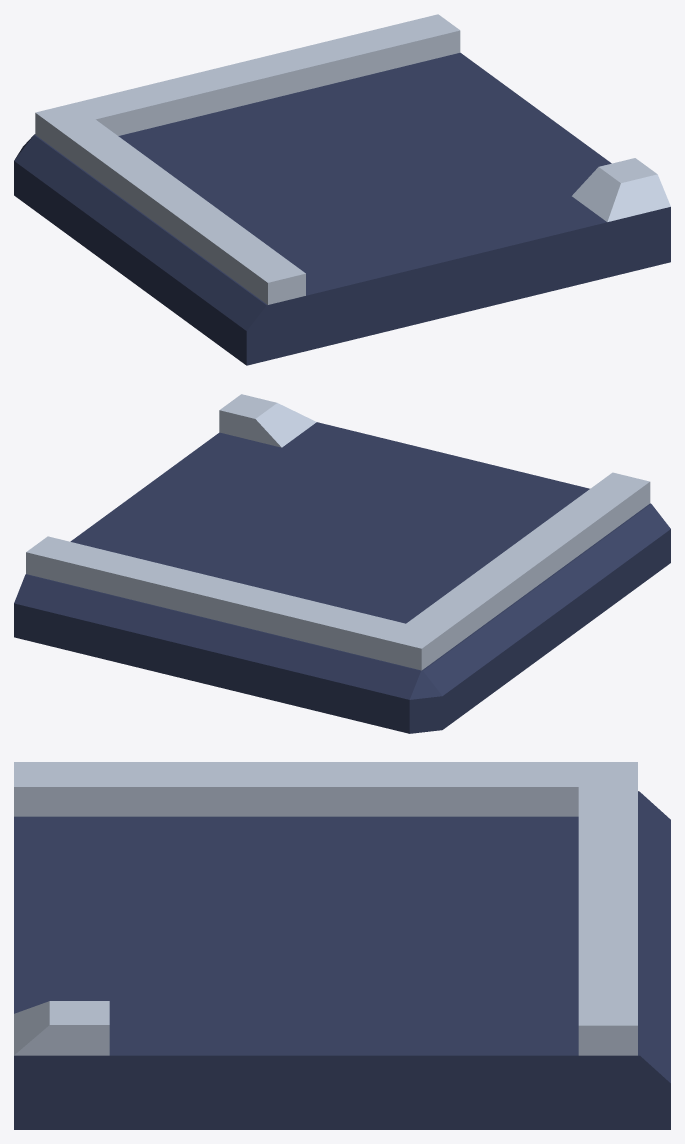
File: base_inner_corner_alt_1x1.fbx
3 renders of one model, top to bottom at view 1: azimuth 30°, elevation 25°; view 2: azimuth 150°, elevation 25°; view 3: azimuth 270°, elevation 25°, orthographic. The views are drawn at different scales.
Parts seen in each view (by area): view 1: base_inner_corner_alt_1x1; view 2: base_inner_corner_alt_1x1; view 3: base_inner_corner_alt_1x1.
Boxes of the visible parts, x1,y1,x2,y2 form: base_inner_corner_alt_1x1: [14, 14, 670, 365]; base_inner_corner_alt_1x1: [14, 394, 670, 733]; base_inner_corner_alt_1x1: [14, 762, 670, 1129].
Bounding box in the file's own units: 200 × 35.23 × 200.
